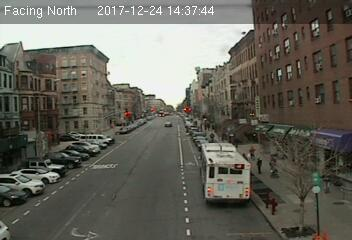bus: (197, 143, 250, 207)
